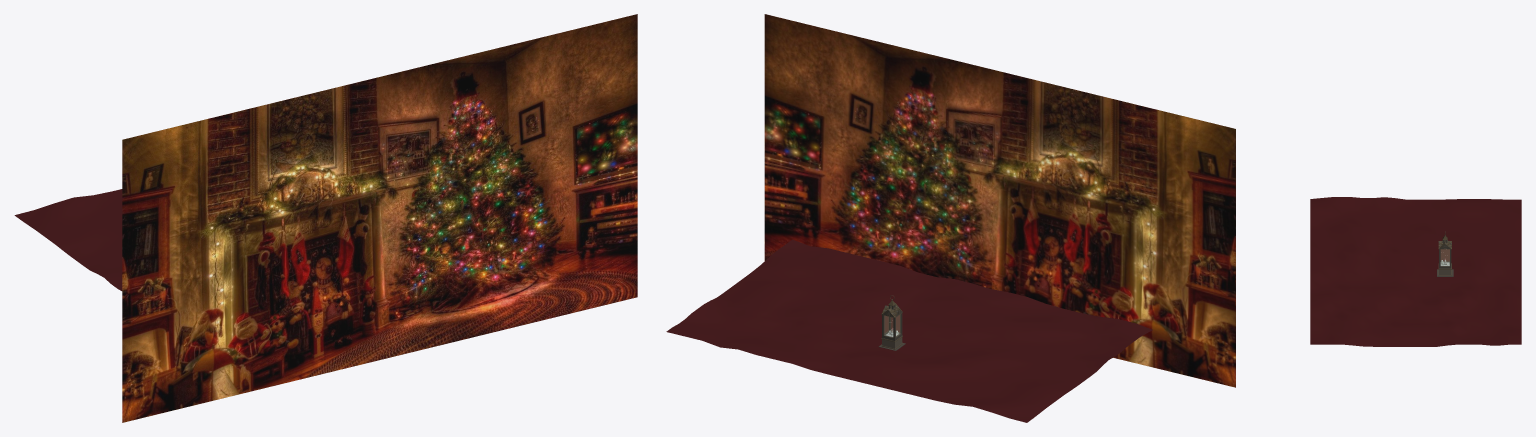
Rendered from christmas_lantern.glb.
The picture shows the model from 3 angles, left to right: view 1: azimuth 30°, elevation 25°; view 2: azimuth 150°, elevation 25°; view 3: azimuth 270°, elevation 25°; orthographic projection. The views are drawn at different scales.
Visible parts, largest first — view 1: pPlane5, pPlane6; view 2: pPlane5, pPlane6, polySurface13; view 3: pPlane6, polySurface13.
Part boxes in pixels (x1,y1,x2,y2): pPlane5: [122, 14, 637, 422]; pPlane6: [14, 189, 122, 290]; pPlane5: [764, 14, 1235, 387]; pPlane6: [666, 239, 1152, 422]; polySurface13: [878, 295, 905, 350]; pPlane6: [1310, 197, 1521, 346]; polySurface13: [1437, 231, 1453, 276].
Size of the model in its own units: 546 by 287 by 309.
Materials: 22 (1 with a texture image).
